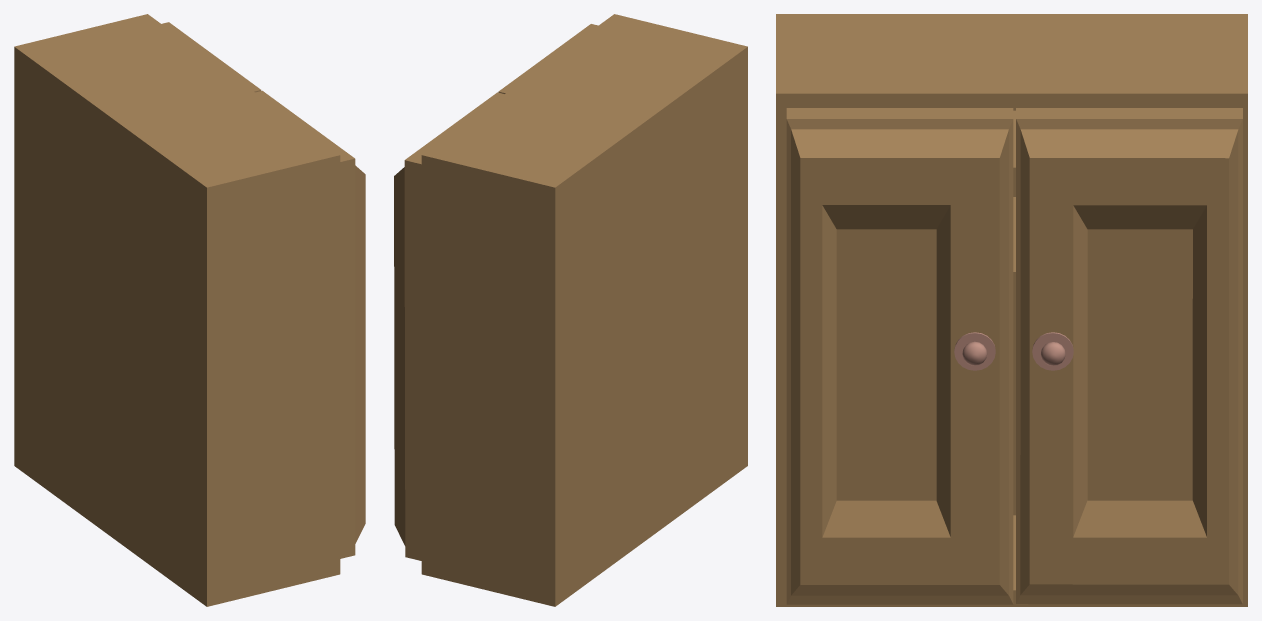
The model's file is Closet_sketch_fbx.fbx.
3 views of the same model, side by side, from view 1: azimuth 30°, elevation 25°; view 2: azimuth 150°, elevation 25°; view 3: azimuth 270°, elevation 25° (orthographic). The views are drawn at different scales.
Parts seen in each view (by area): view 1: pCube2, pCube3, pCube1, pCube4, pCube6, pCube5; view 2: pCube2, pCube3, pCube4, pCube5, pCube6; view 3: pCube6, pCube5, pCube2, pCube1, pCube3, pCube4, pCylinder2, pCylinder1.
Boxes of the visible parts, bbox=[...] form: pCube2: bbox=[14, 14, 340, 606]; pCube3: bbox=[14, 111, 340, 605]; pCube1: bbox=[207, 301, 340, 606]; pCube4: bbox=[14, 193, 206, 606]; pCube6: bbox=[255, 90, 365, 558]; pCube5: bbox=[162, 22, 261, 92]; pCube2: bbox=[421, 14, 747, 606]; pCube3: bbox=[421, 109, 747, 605]; pCube4: bbox=[421, 193, 747, 604]; pCube5: bbox=[394, 92, 504, 560]; pCube6: bbox=[498, 24, 598, 93]; pCube6: bbox=[786, 108, 1013, 604]; pCube5: bbox=[1016, 108, 1242, 604]; pCube2: bbox=[776, 14, 1247, 606]; pCube1: bbox=[776, 197, 1235, 606]; pCube3: bbox=[776, 110, 1247, 605]; pCube4: bbox=[779, 197, 1247, 604]; pCylinder2: bbox=[1032, 332, 1073, 370]; pCylinder1: bbox=[954, 332, 995, 370].
Size of the model in its own units: 135 by 300 by 250.
